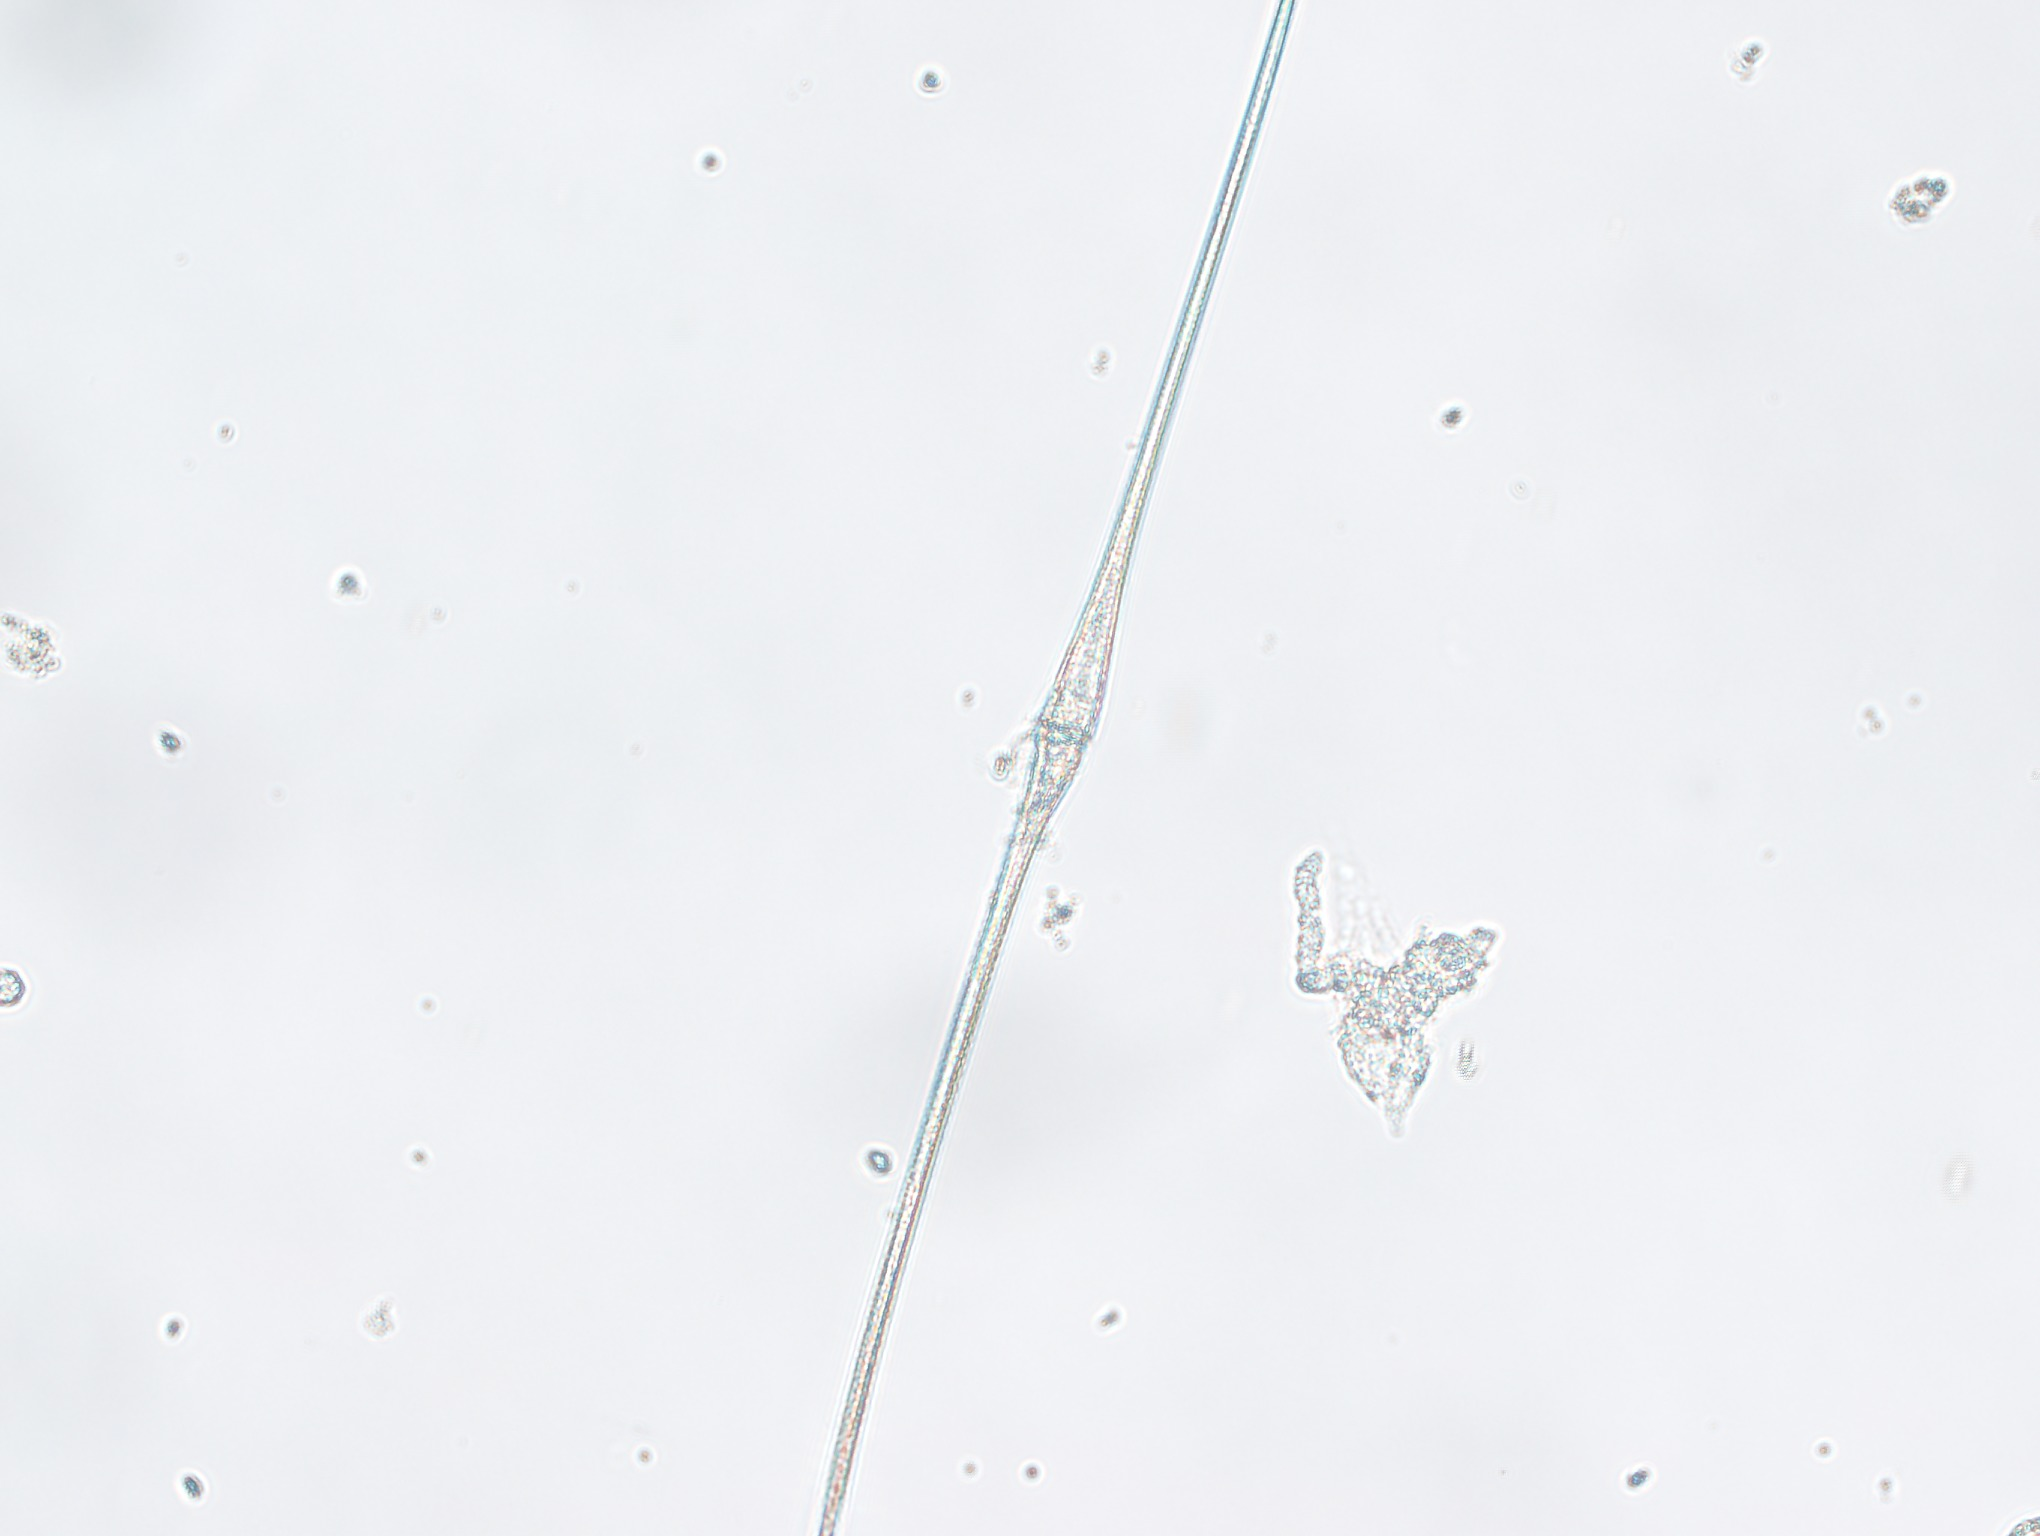ceratium fusus: (776, 3, 1282, 1536)
